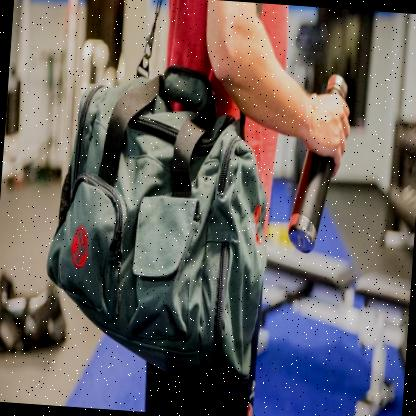bag: (34, 58, 280, 390)
